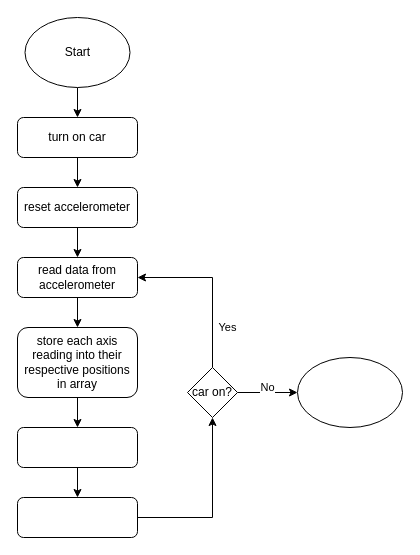
Image size: 420x555. Some labels were removed from this diagram. Here are the shapes that lost their labels. From the top down, the centre of each, then its label:
(349,392): End
(77,447): display data
(77,517): delay 0.5 seconds
